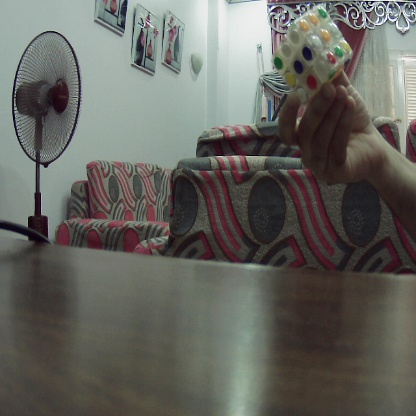Rubix Cube: (275, 5, 353, 96)
